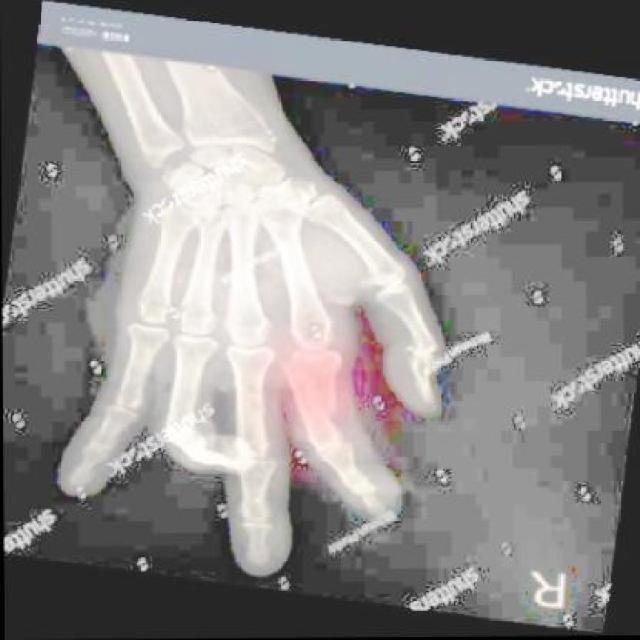Fracture: (271, 348, 349, 441)
